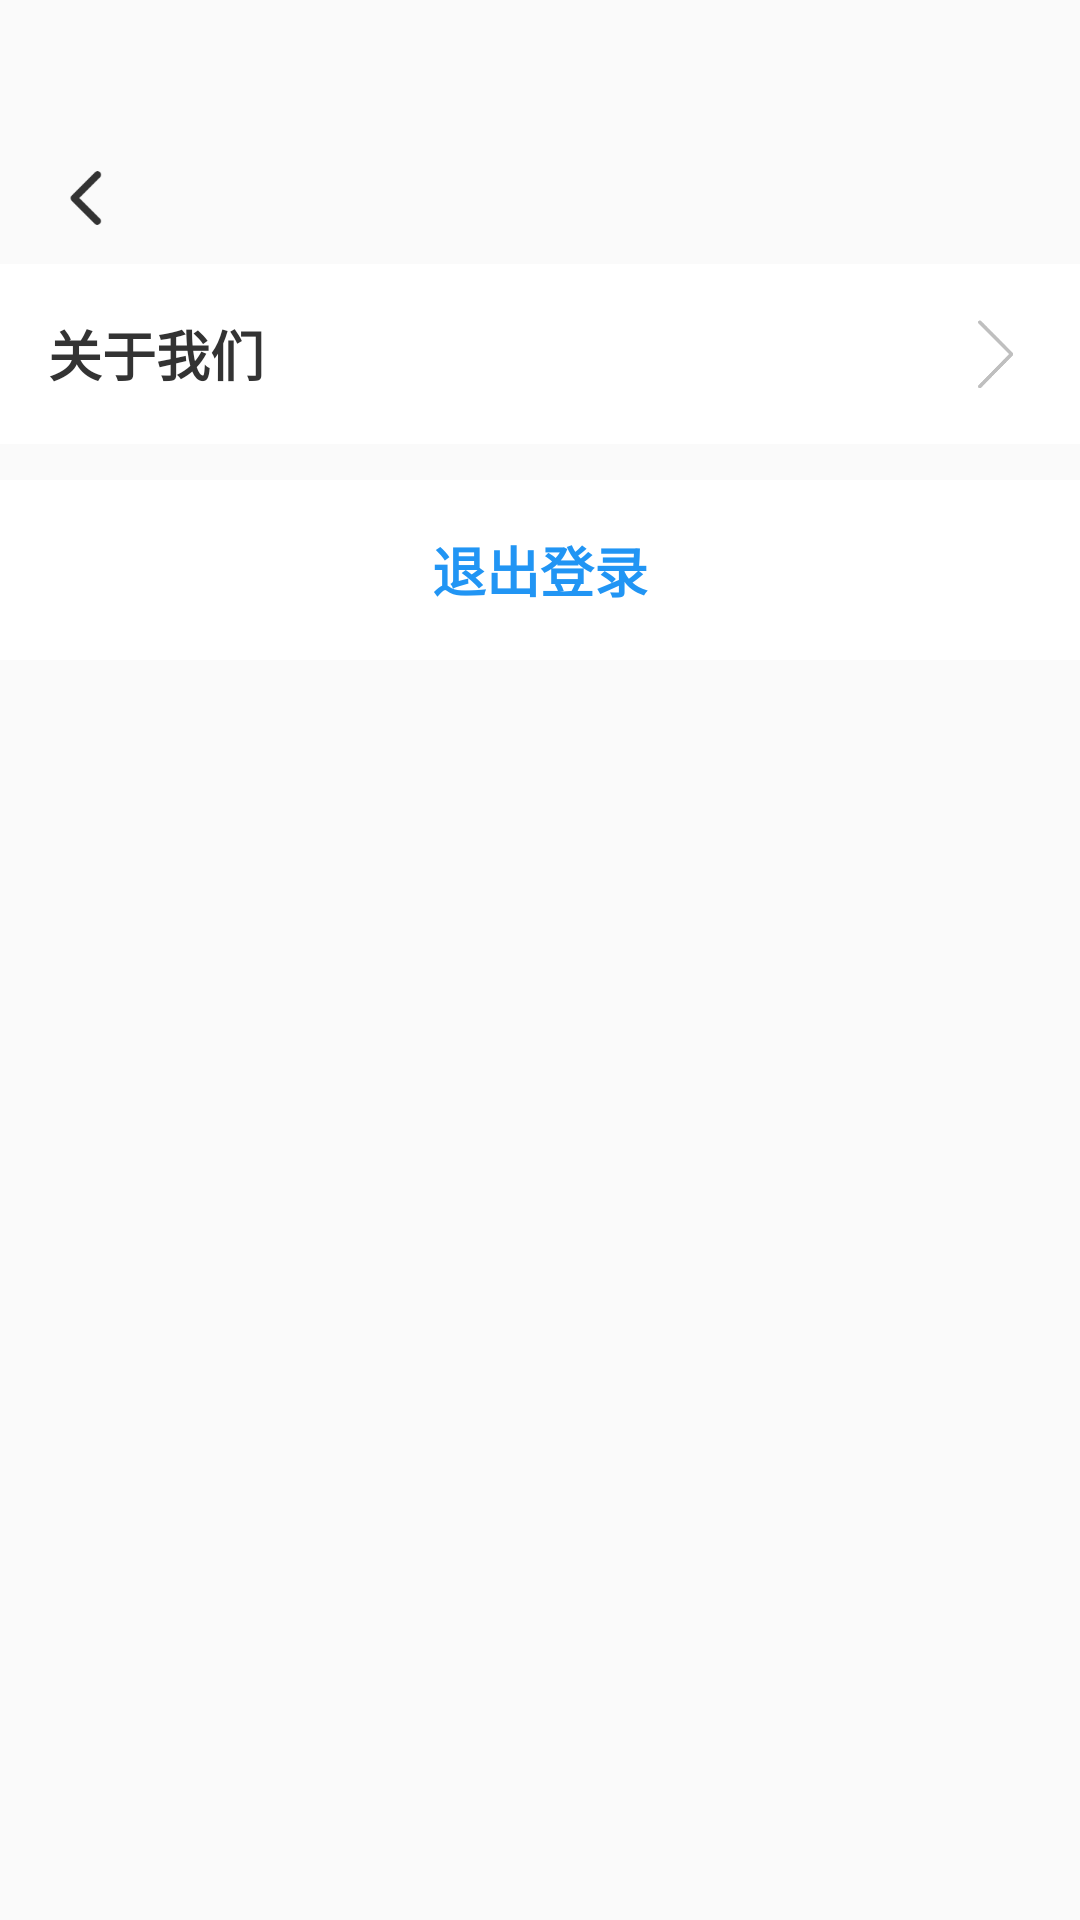

Screen size 1080w x 1920h. Icon name, then its box in pixels as (x1, y1, x2, y2):
rightrow: (978, 320, 1013, 388)
title back rtl: (70, 171, 102, 225)
